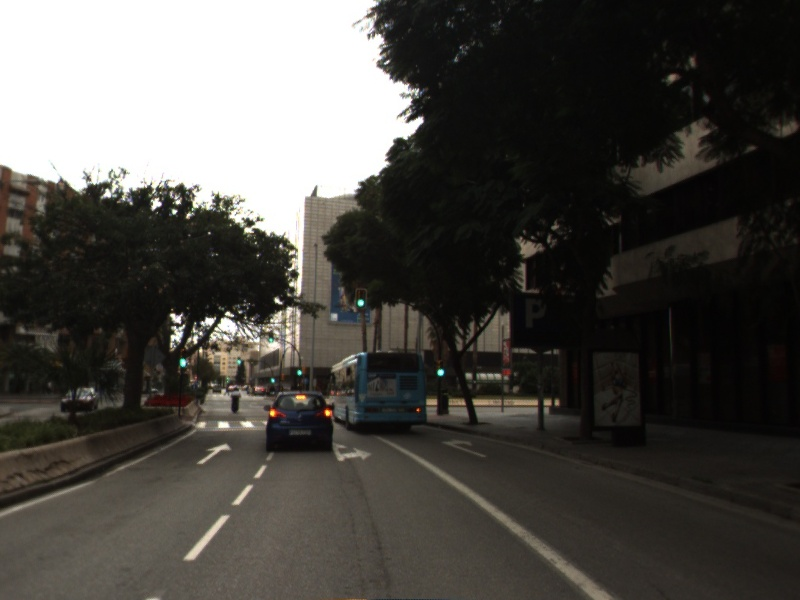RIGHT: (440, 437, 490, 460)
STRAIGHT: (195, 441, 234, 466)
STRAIGHT_RIGHT: (331, 440, 375, 463)
